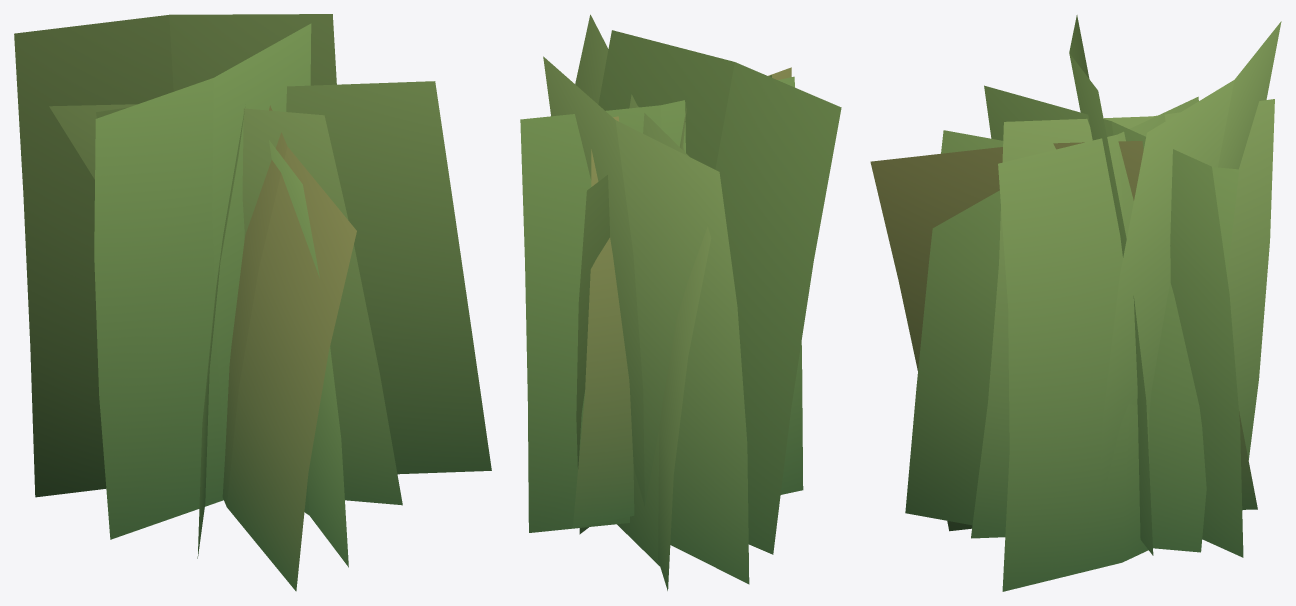
File: grass_medium_02_b.glb
3 renders of one model, left to right at view 1: azimuth 30°, elevation 25°; view 2: azimuth 150°, elevation 25°; view 3: azimuth 270°, elevation 25°, orthographic. The views are drawn at different scales.
Parts seen in each view (by area): view 1: isl_grass_medium_02_b; view 2: isl_grass_medium_02_b; view 3: isl_grass_medium_02_b.
Boxes of the visible parts, <box> form: isl_grass_medium_02_b: <box>14,14,491,591</box>; isl_grass_medium_02_b: <box>520,14,841,590</box>; isl_grass_medium_02_b: <box>870,15,1281,591</box>.
Size of the model in its own units: 0.4335 by 0.5719 by 0.4371.
